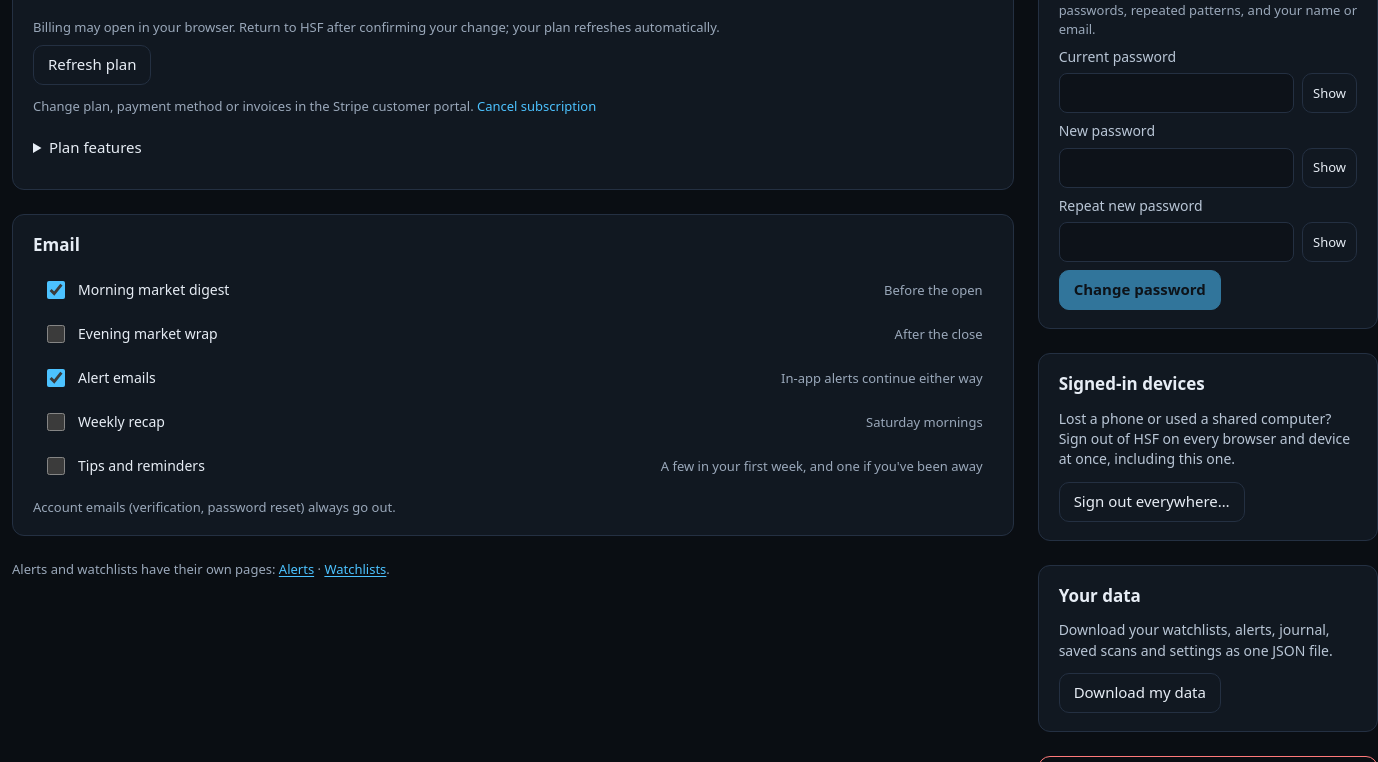
Scenario: Account › email settings show the server's answer and keep it on a failed save
The width and height of the screenshot is (1378, 762).
(page scrolled)
Expected: the checkbox labelled "Evening market wrap After the close" is not checked, [47,325,65,343]
Click the checkbox labelled "Alert emails In-app alerts continue either way". click: (56, 378)
box: [47,369,65,387]
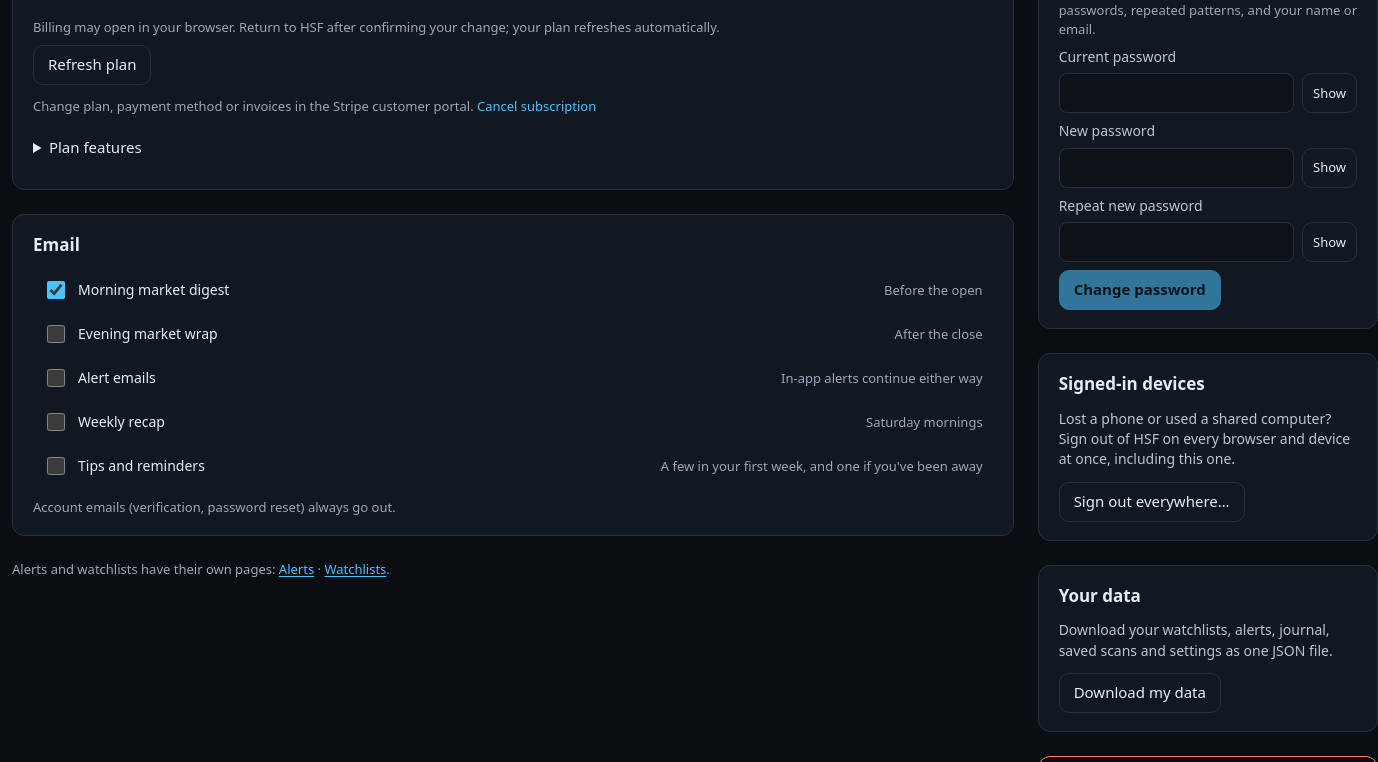
Result: the checkbox labelled "Alert emails In-app alerts continue either way" is not checked
Click the checkbox labelled "Alert emails In-app alerts continue either way". click: (56, 378)
box: [47,369,65,387]
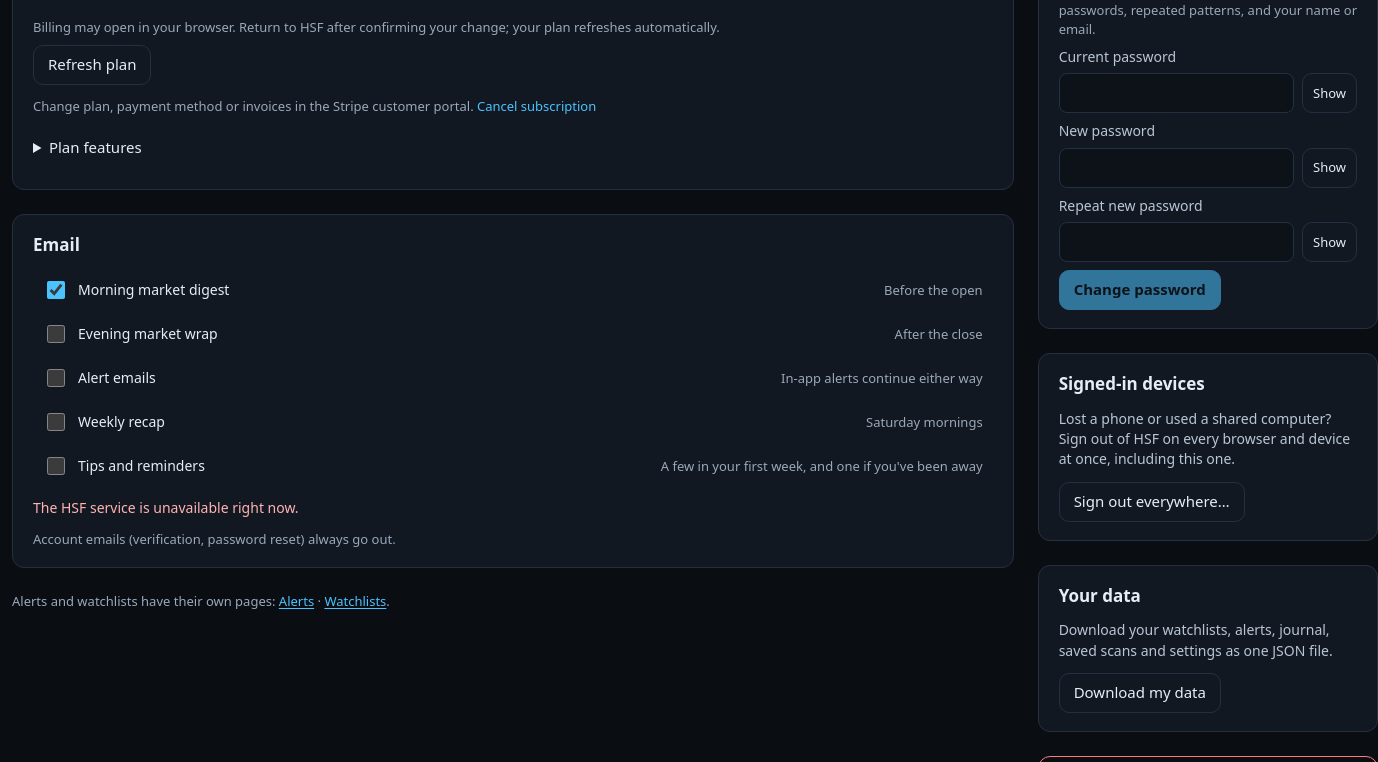
Result: the checkbox labelled "Alert emails In-app alerts continue either way" is not checked at [47,369,65,387]
Result: the text "The HSF service is unavailable right now." is shown at [33,498,299,517]
